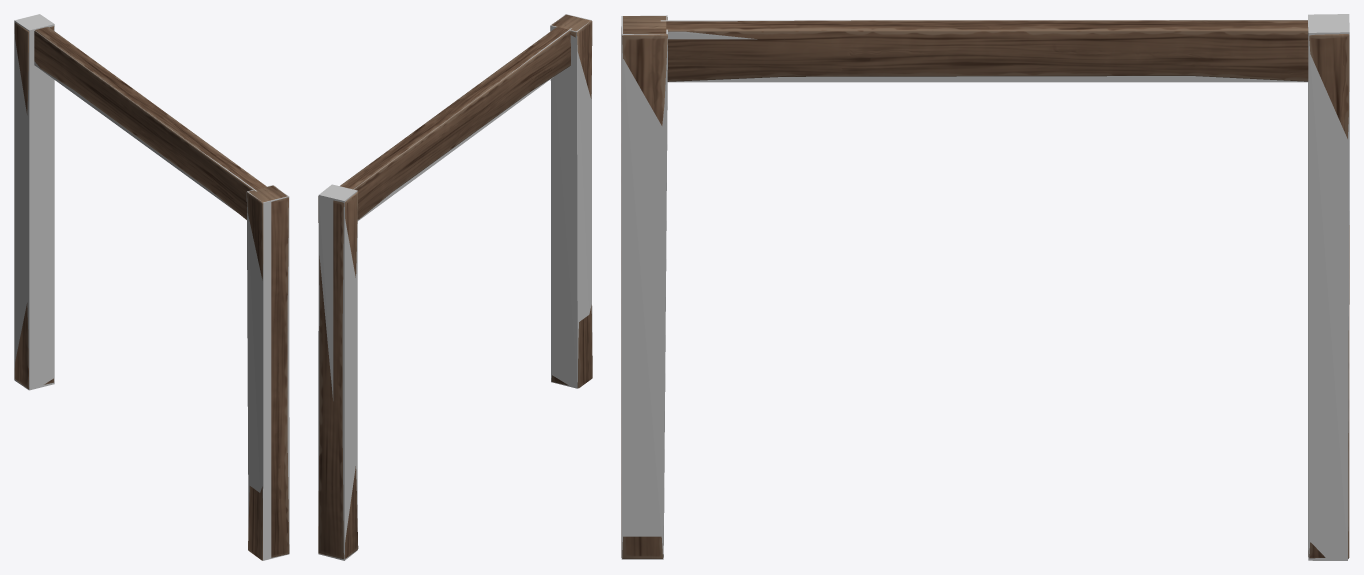
The model's file is SM_Hangar01B_1.fbx.
3 renders of one model, left to right at view 1: azimuth 30°, elevation 25°; view 2: azimuth 150°, elevation 25°; view 3: azimuth 270°, elevation 25°, orthographic. The views are drawn at different scales.
Parts seen in each view (by area): view 1: SM_Hangar01B_1_ConvexHulls, SM_Hangar01B_1; view 2: SM_Hangar01B_1, SM_Hangar01B_1_ConvexHulls; view 3: SM_Hangar01B_1_ConvexHulls, SM_Hangar01B_1.
Part boxes in pixels (<box>): SM_Hangar01B_1_ConvexHulls: <box>14,14,289,560</box>; SM_Hangar01B_1: <box>14,22,289,560</box>; SM_Hangar01B_1: <box>318,14,592,558</box>; SM_Hangar01B_1_ConvexHulls: <box>318,14,592,560</box>; SM_Hangar01B_1_ConvexHulls: <box>621,14,1349,560</box>; SM_Hangar01B_1: <box>621,16,1349,558</box>.
Bounding box in the file's own units: 28.59 × 440 × 352.
Materials: 2 (1 with a texture image).
